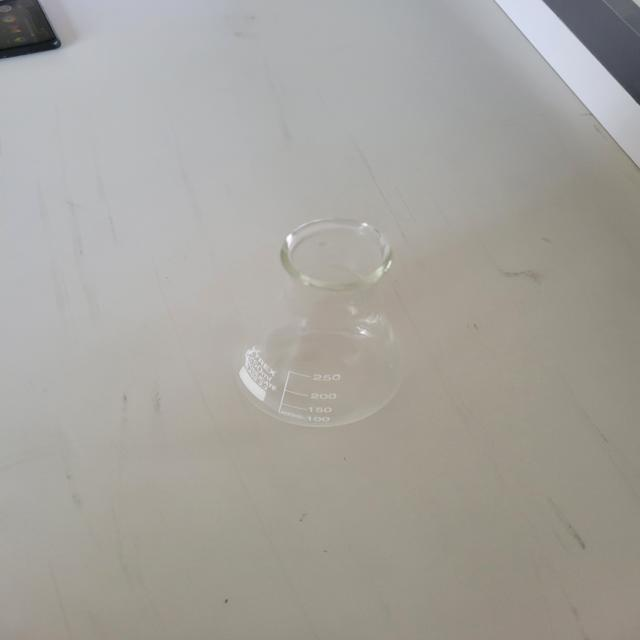Conical_Flask: (176, 192, 438, 470)
